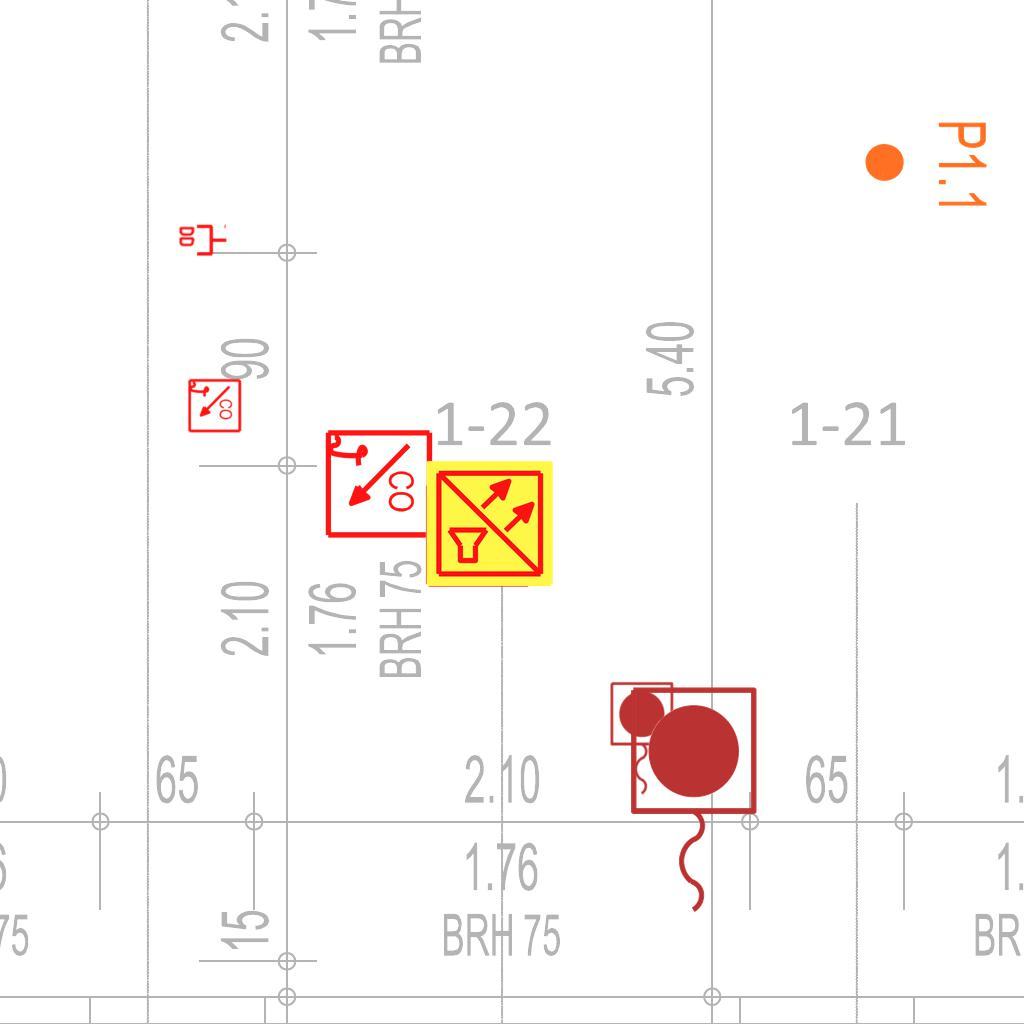Datenanschluss_zweifach: (177, 224, 228, 258)
Downlight_LED_Einbauleuchten_Flur: (862, 119, 990, 212)
OKW_Multisensormelder_(Kombination_optischer_Rauch-Kahlenmonoxid_Waerme-Melder): (424, 458, 556, 590)
ROA_Rauchmelder_optisch_mit_Signalgeber_(Sockelsirene): (321, 428, 434, 541), (186, 378, 242, 434)
Zugtaster: (620, 679, 764, 923), (605, 678, 677, 800)
